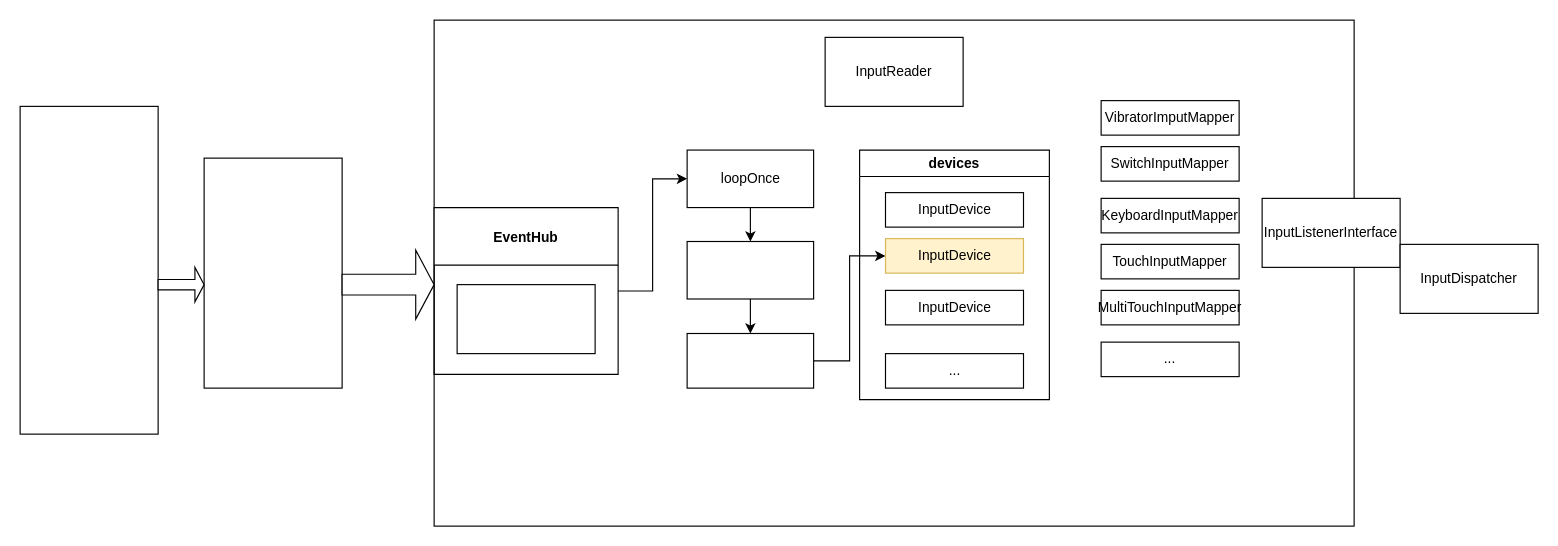
Some shapes in this 1558 by 546 pixel diagram are drawn without their labels. The shapes that lost their labels are listed below. From the top down, each one's centre as x and y in pixels, then its label:
At (88,269): "Linux Kernel".
At (272,272): "/dev/input/event0 /dev/input/event1 /dev/input/event2 ...".
At (387,284): "原始输入事件".
At (750,269): "processEventsLock".
At (525,318): "getEvents".
At (750,360): "processEventsFor DeviceLocked".
